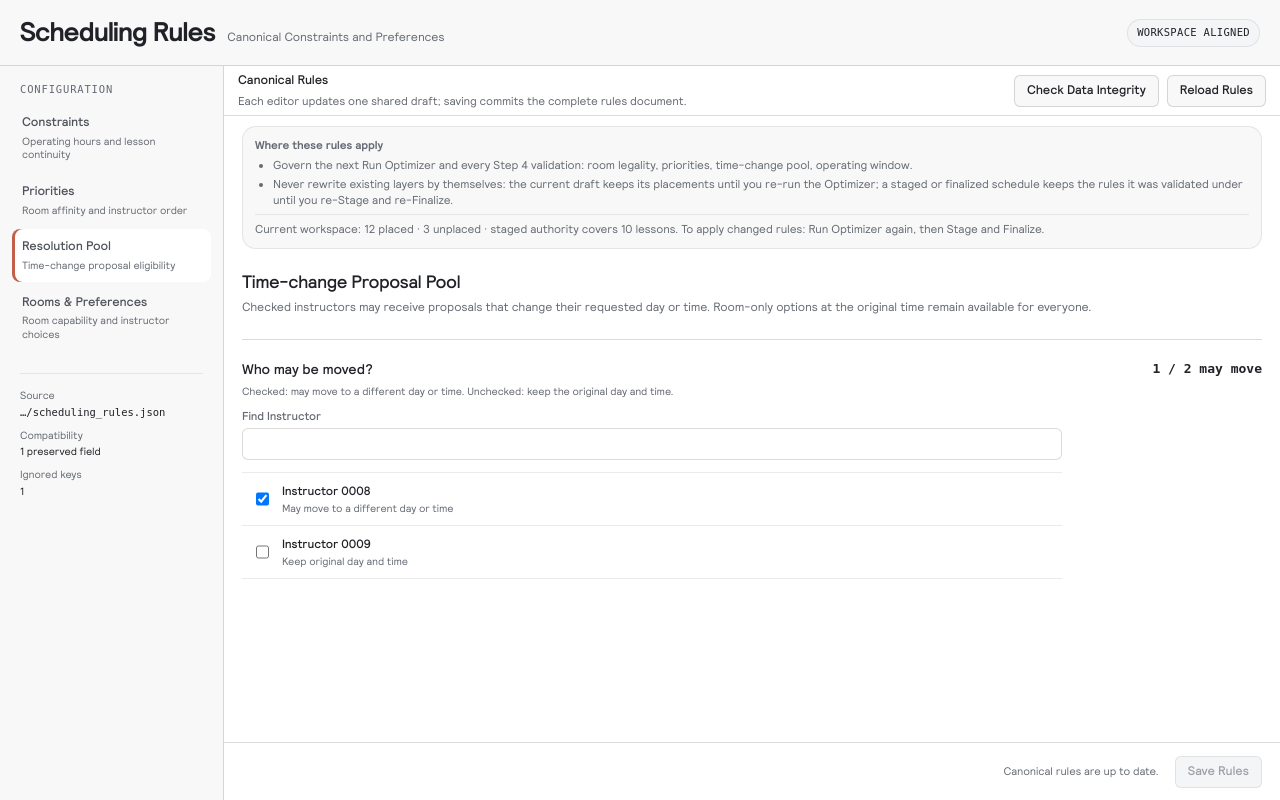
Scenario: RulesPage › does not block section switches inside the rules workspace
Click the checkbox named "Allow time changes for Instructor 0008". click: x=262, y=499
box: [256,483,269,515]
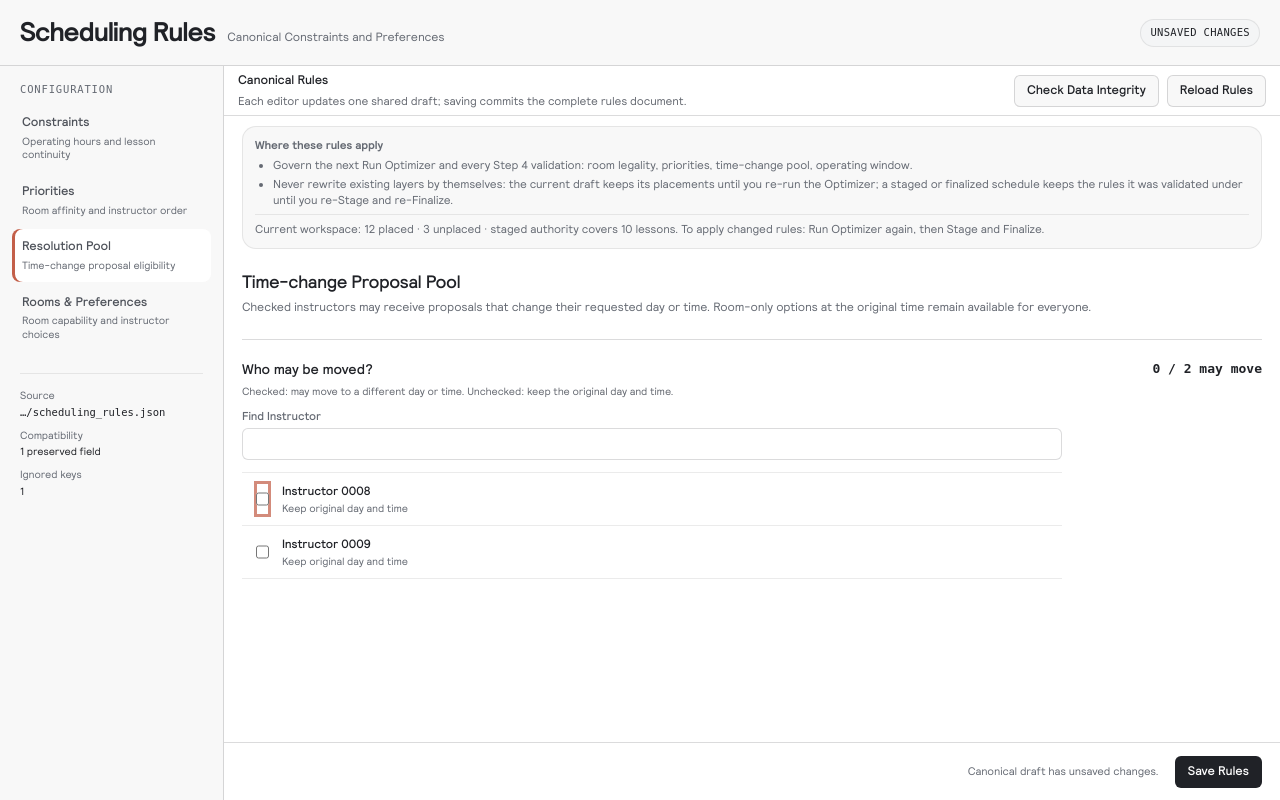
Click the link "Constraints Operating hours and lesson continuity". click: x=89, y=138
box: [22,115,156,160]
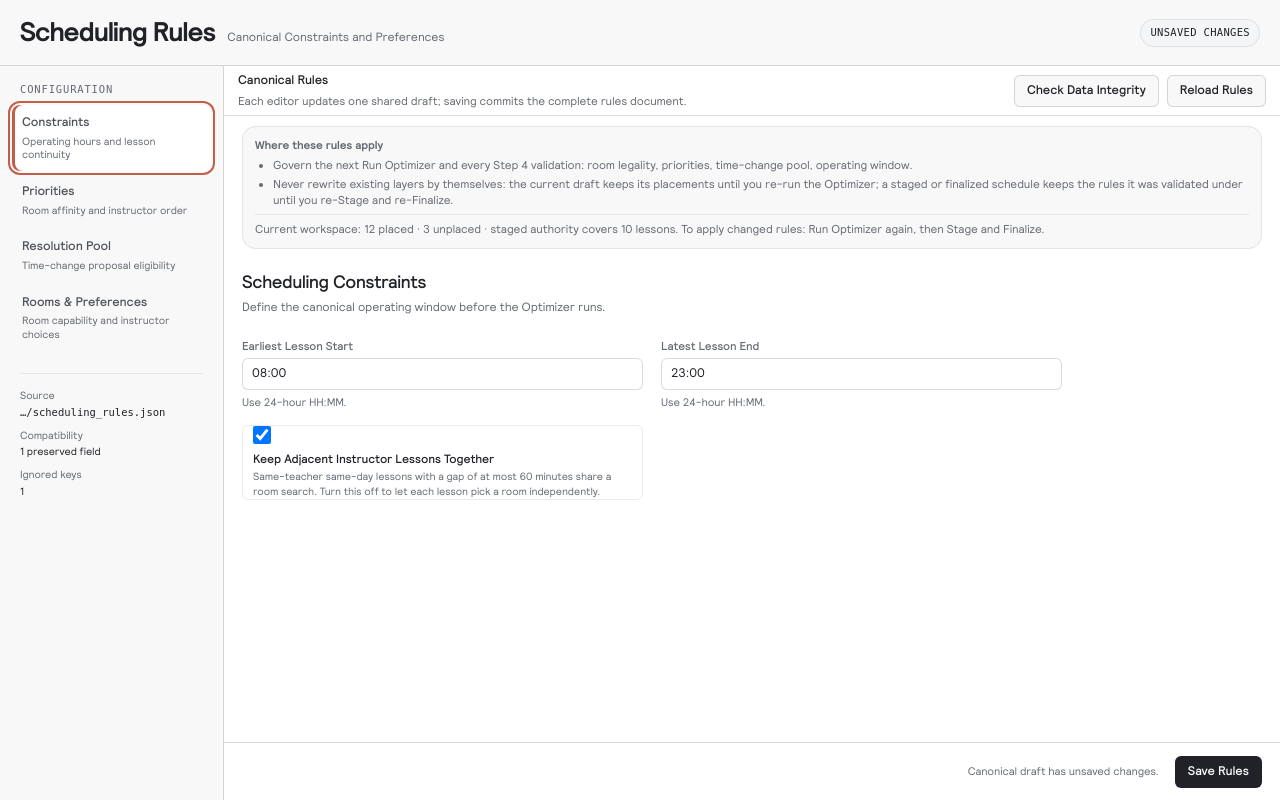
Expected: the text "Unsaved Changes" is shown, [1140,18,1260,46]
Expected: the field labelled "Earliest Lesson Start" holds "08:00", [242,358,643,390]
